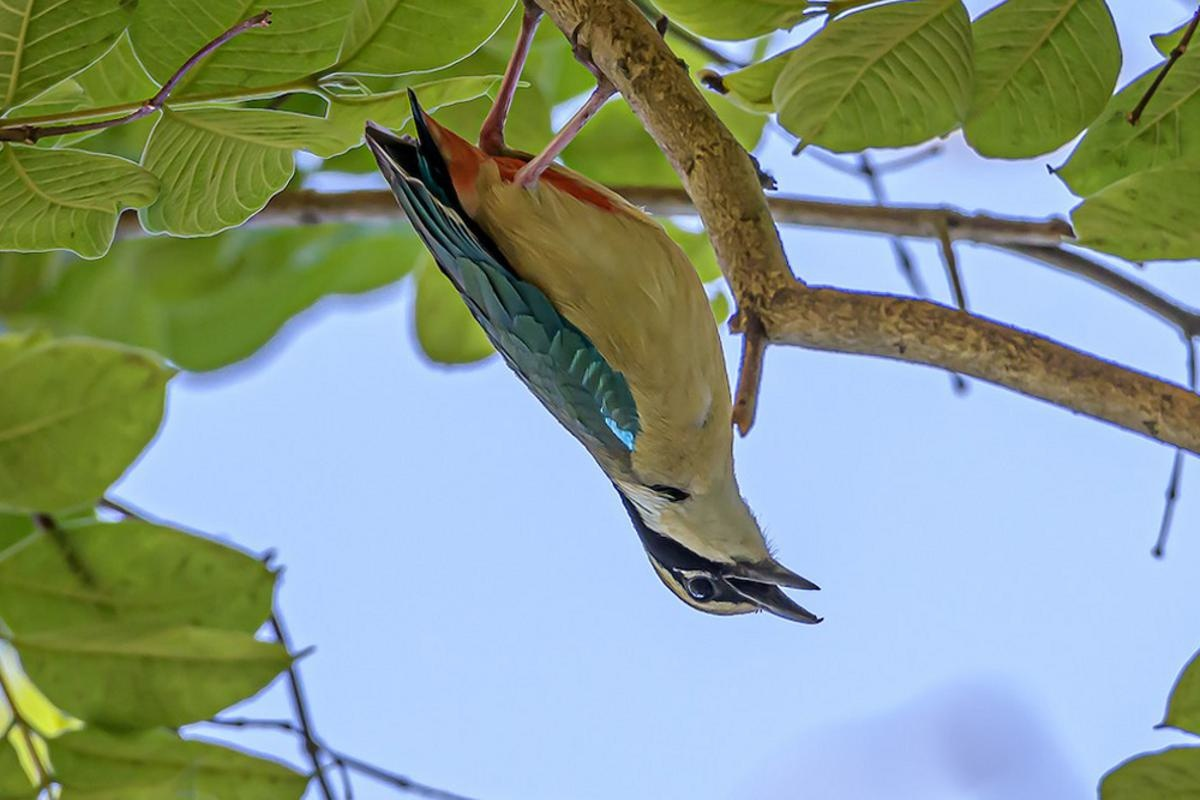pitta: (375, 120, 861, 660)
